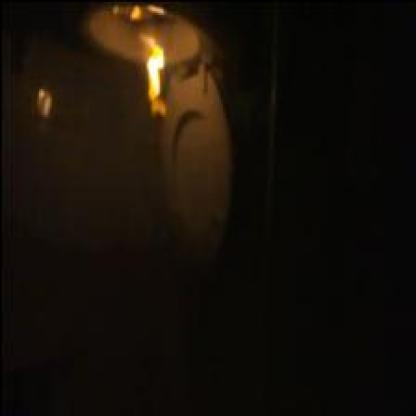Fire: (143, 44, 165, 114)
